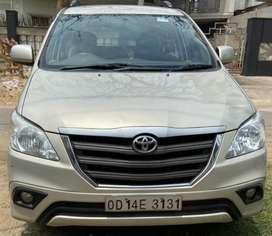OD14E3131: (104, 194, 180, 210)
